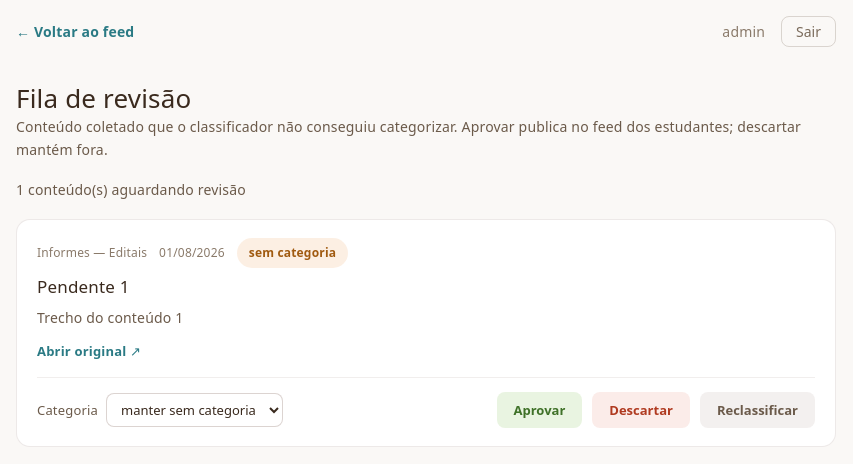
Test: Revisão — ações › aprova enviando a categoria escolhida e tira o item da fila
expect the heading "Pendente 1" is shown: met, box [37,275,130,298]
Select "Evento" in the dropdown labelled "Categoria": (194, 410) [106,393,283,427]
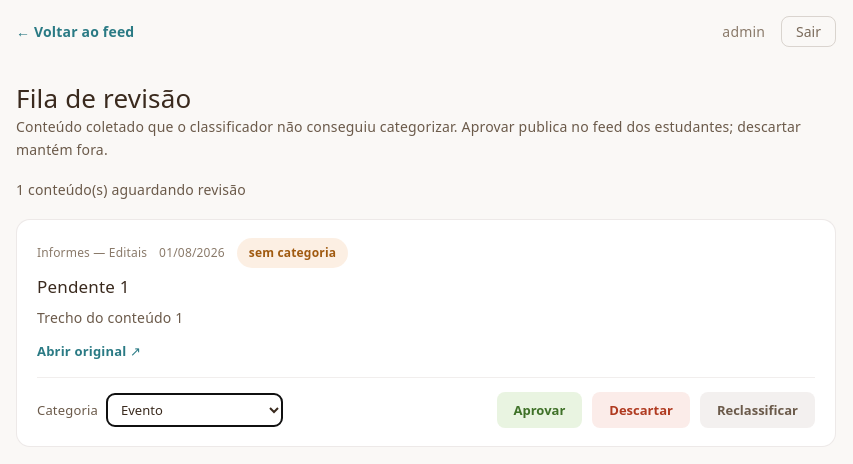
Click the button "Aprovar": (539, 410) [496,392,582,428]
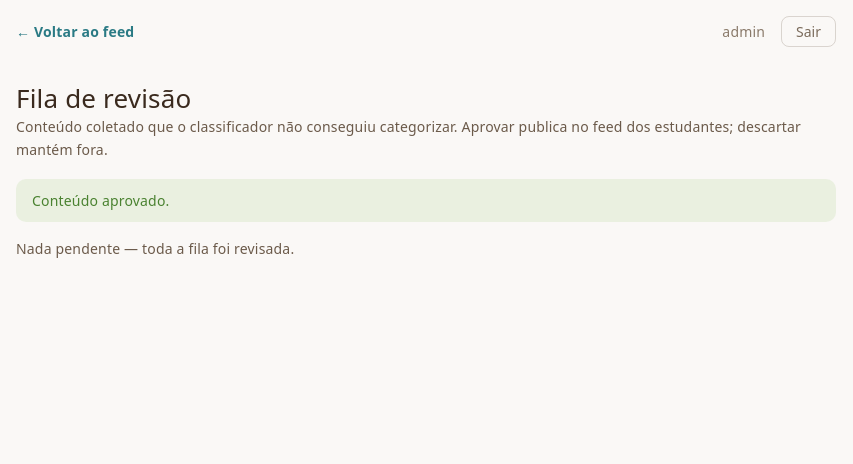
expect the heading "Pendente 1" is gone: met
expect the message reads "Conteúdo aprovado.": met, box [32,191,170,210]
